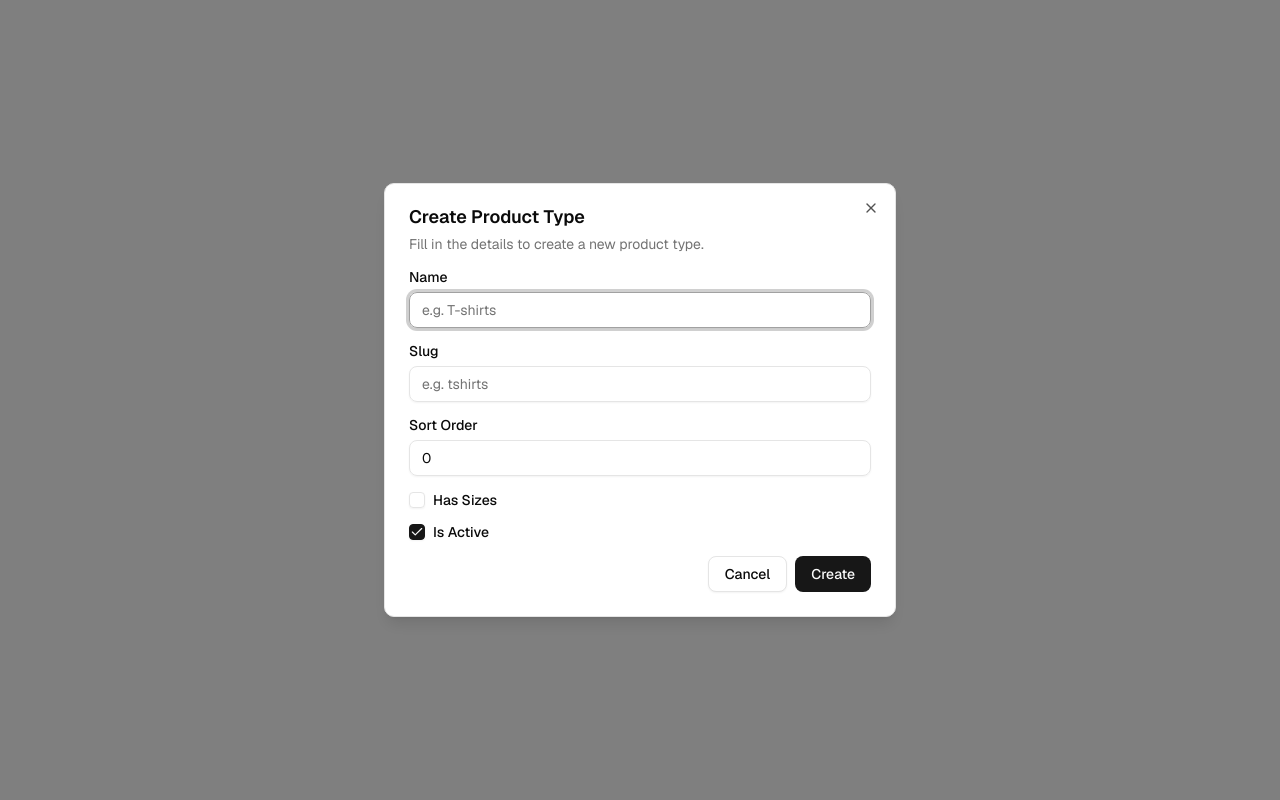
Test: ProductTypeFormDialog › Create mode › should validate required slug field
This screenshot has width=1280, height=800.
Type "Test Name" into the field labelled "Name" at (640, 310), box x1=409 y1=292 x2=871 y2=328
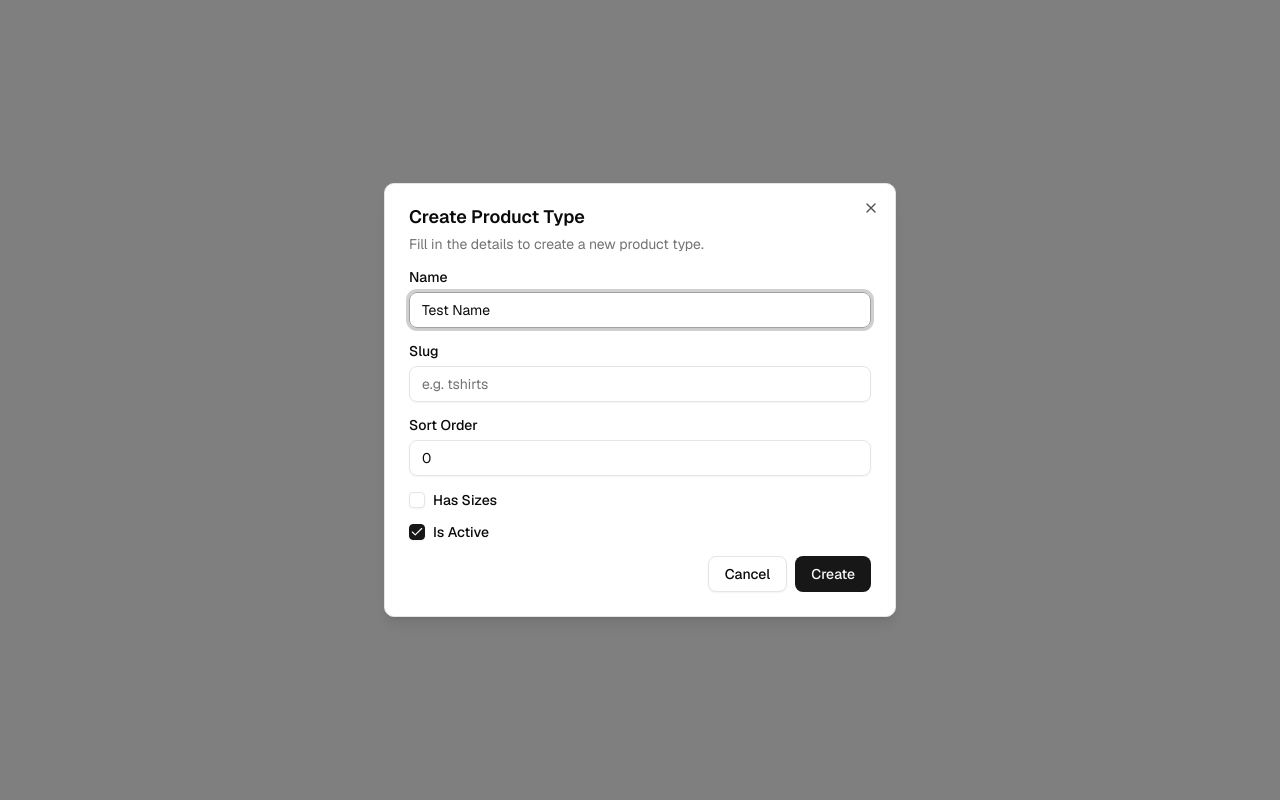
Click the button "Create" at (833, 574), box x1=795 y1=556 x2=871 y2=592
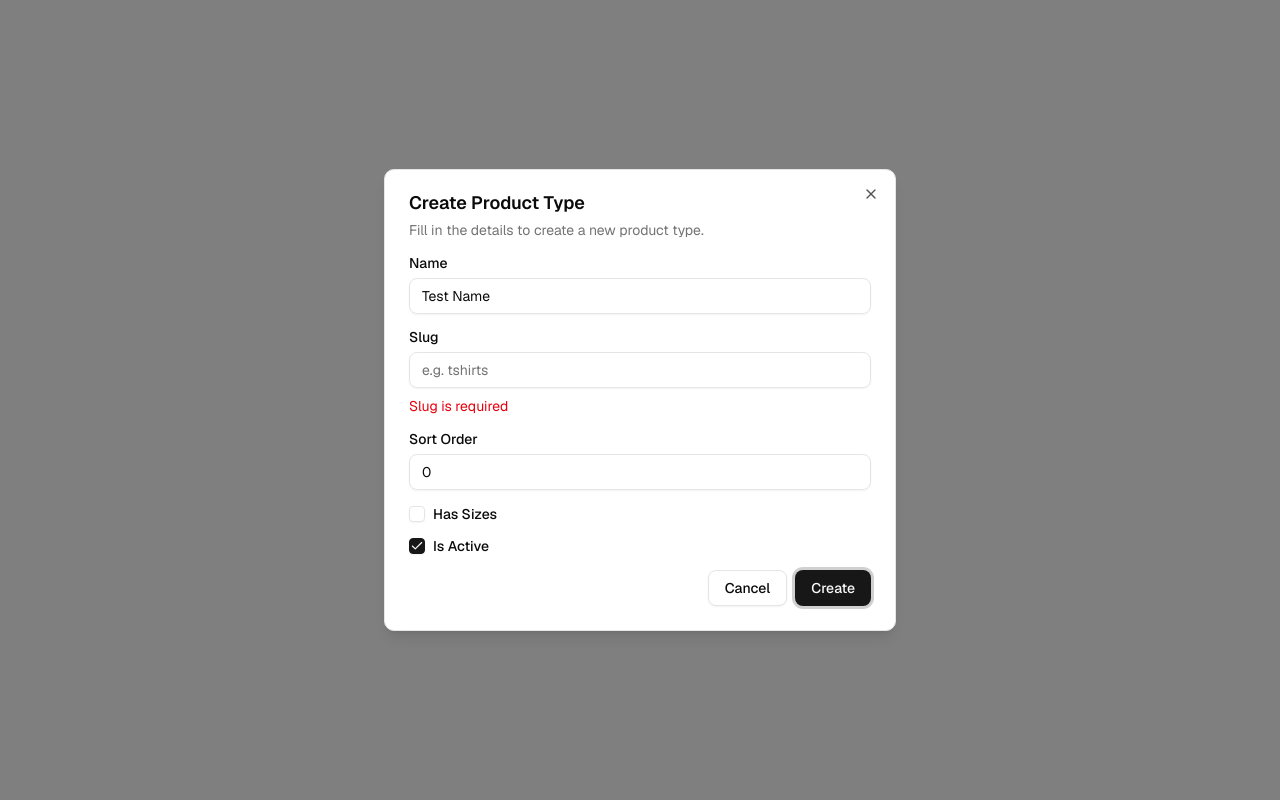
Expected: the text "Slug is required" is shown, x1=409 y1=397 x2=508 y2=415
